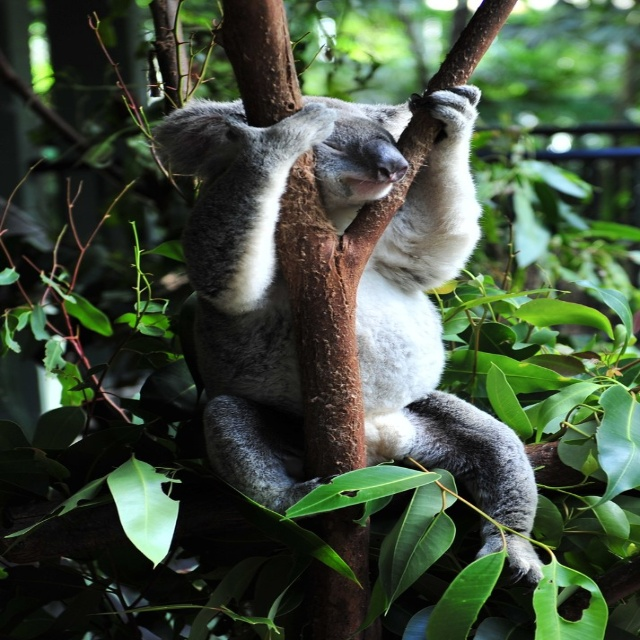Koala: (141, 84, 547, 585)
